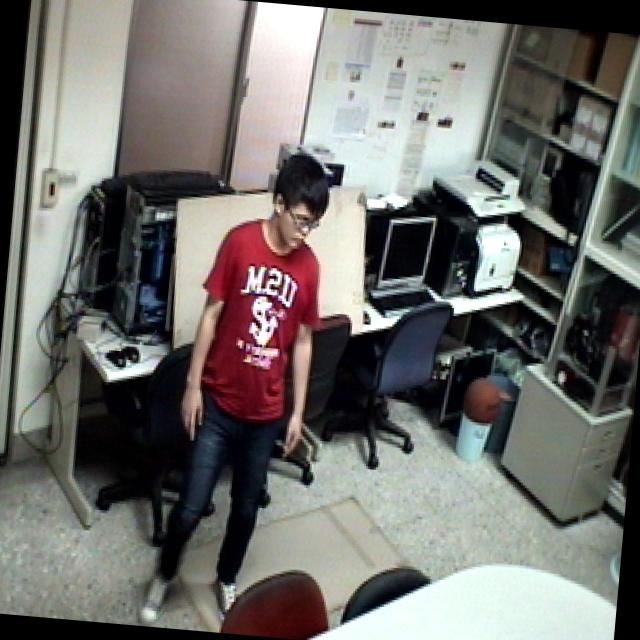stand: (126, 139, 351, 640)
